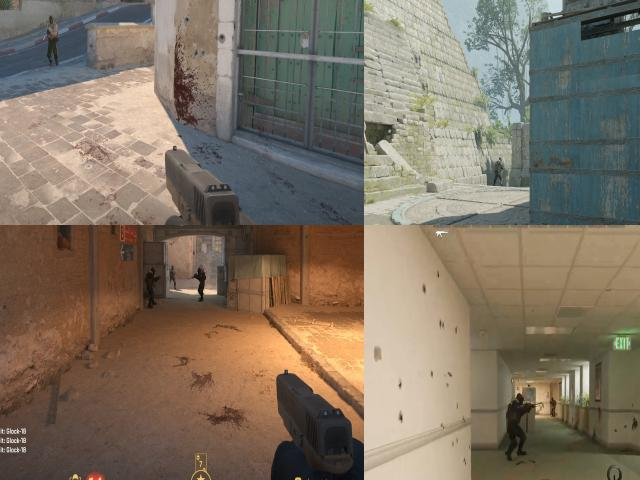CT: (507, 392, 528, 434), (144, 265, 156, 310), (492, 154, 503, 188), (195, 268, 206, 299), (169, 263, 176, 288)
CT-Head: (510, 391, 526, 406), (150, 267, 156, 273), (497, 156, 502, 162), (197, 268, 201, 272), (172, 266, 174, 268)
T: (47, 15, 58, 67)
T-Head: (48, 14, 55, 26)
